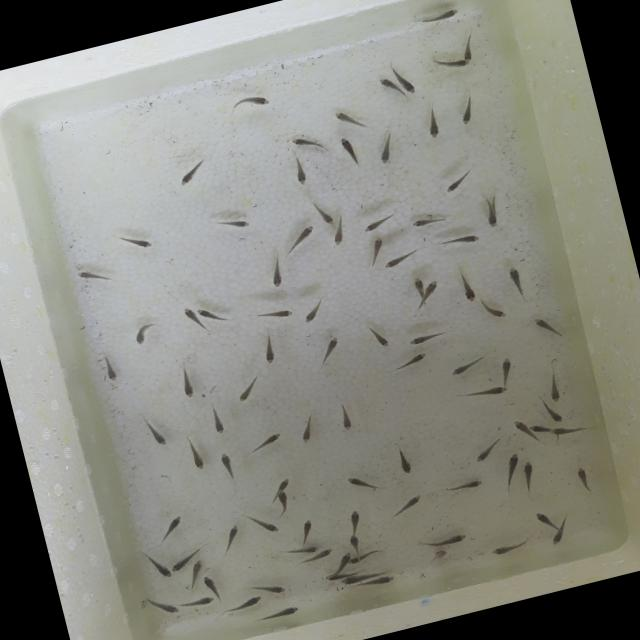fingerling: (276, 222, 321, 262), (529, 306, 571, 348), (412, 526, 472, 554), (111, 224, 157, 258), (310, 331, 348, 371), (172, 153, 214, 188), (333, 131, 368, 173), (252, 325, 286, 368), (330, 100, 370, 136), (138, 544, 174, 584), (72, 260, 117, 292), (467, 430, 508, 465), (436, 165, 479, 198), (432, 227, 484, 254), (406, 208, 456, 236), (241, 428, 287, 458), (225, 90, 274, 118), (448, 92, 484, 130), (414, 2, 466, 28), (452, 382, 508, 406), (172, 358, 202, 402), (356, 208, 399, 238), (343, 466, 383, 498), (221, 590, 268, 617), (476, 292, 511, 328), (254, 600, 304, 625), (446, 351, 492, 378), (206, 210, 250, 238), (296, 292, 332, 326), (388, 491, 430, 520), (139, 413, 171, 451), (391, 348, 434, 376), (144, 587, 180, 620), (369, 128, 400, 166), (502, 260, 530, 302), (245, 508, 281, 540), (288, 412, 320, 448), (128, 316, 164, 348), (250, 301, 296, 326), (417, 103, 446, 142), (155, 510, 190, 542), (182, 430, 208, 473), (404, 326, 450, 350), (486, 534, 532, 558), (380, 247, 422, 273), (232, 372, 266, 404), (261, 252, 289, 290), (440, 474, 486, 497), (331, 396, 358, 435), (288, 130, 326, 157), (204, 398, 231, 436), (391, 439, 418, 476), (454, 268, 480, 306), (95, 347, 121, 384), (363, 321, 394, 352), (492, 352, 520, 386), (430, 51, 468, 76), (215, 448, 242, 482), (570, 461, 596, 496), (364, 230, 394, 260), (291, 516, 320, 546), (542, 368, 566, 404), (339, 567, 384, 586), (518, 455, 541, 491), (546, 420, 586, 440), (360, 571, 400, 590), (178, 592, 216, 612), (220, 523, 244, 553), (283, 542, 322, 560), (322, 565, 363, 582), (344, 504, 368, 533), (290, 153, 310, 187), (312, 200, 336, 228), (502, 448, 524, 478), (532, 507, 558, 532), (328, 221, 350, 249), (459, 32, 479, 62), (263, 578, 291, 599), (376, 73, 398, 99), (348, 548, 381, 565), (544, 400, 566, 424), (199, 572, 221, 596), (186, 556, 208, 580), (276, 487, 294, 516), (168, 554, 191, 576), (482, 203, 500, 229), (398, 72, 418, 95), (424, 276, 444, 297), (508, 416, 528, 436), (426, 546, 451, 562), (408, 274, 426, 296), (347, 530, 363, 554), (180, 302, 197, 323), (313, 546, 338, 560), (546, 529, 565, 547), (274, 474, 294, 490), (196, 304, 215, 320), (528, 420, 548, 434), (340, 549, 352, 561)
